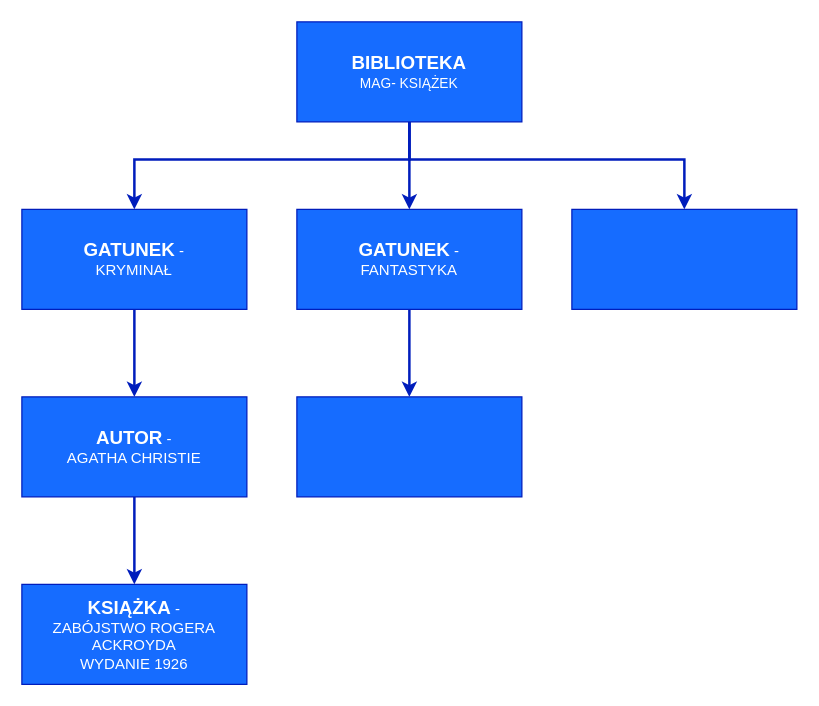
This 819x706 diagram has some shape labels left out. The centre of each missing label's shape, as x and y in pixels:
"AUTOR - ANDRZEJ SAPKOWSKI" goes at pixel 409 446.
"GATUNEK - TURYSTYKA" goes at pixel 684 258.
